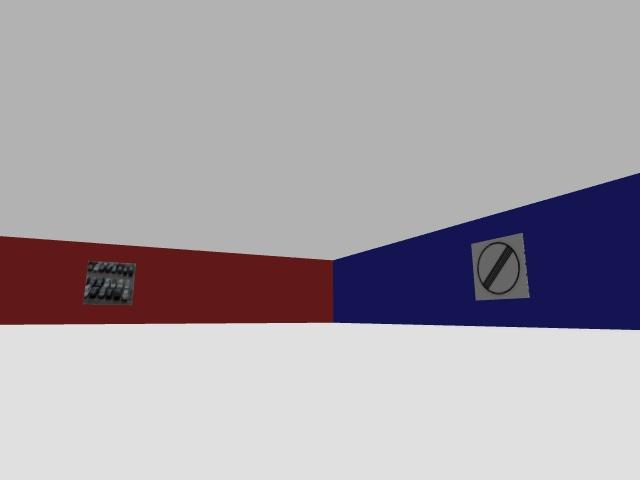fastsign: (473, 233, 529, 300)
vehicle: (114, 284, 123, 298), (113, 288, 122, 300), (89, 287, 98, 297), (95, 277, 104, 287), (98, 286, 106, 297), (105, 288, 113, 299), (122, 289, 129, 301), (89, 277, 97, 287), (105, 288, 113, 298), (98, 287, 105, 298), (84, 285, 90, 297), (105, 262, 112, 272), (89, 277, 96, 287), (93, 262, 100, 272), (103, 278, 110, 288), (104, 263, 111, 273), (124, 279, 131, 289), (122, 290, 128, 301), (96, 279, 105, 286), (98, 263, 105, 272), (104, 278, 111, 287), (103, 277, 109, 287), (122, 265, 128, 275), (111, 264, 117, 274), (105, 262, 111, 272), (104, 263, 110, 273), (117, 279, 124, 287), (84, 286, 89, 297), (128, 265, 133, 276), (117, 278, 123, 287), (110, 279, 116, 288), (127, 265, 132, 275), (110, 279, 116, 287), (104, 277, 109, 286), (88, 262, 93, 271), (108, 262, 114, 269), (125, 279, 130, 287), (117, 265, 122, 273), (118, 263, 125, 267), (86, 276, 89, 284)
